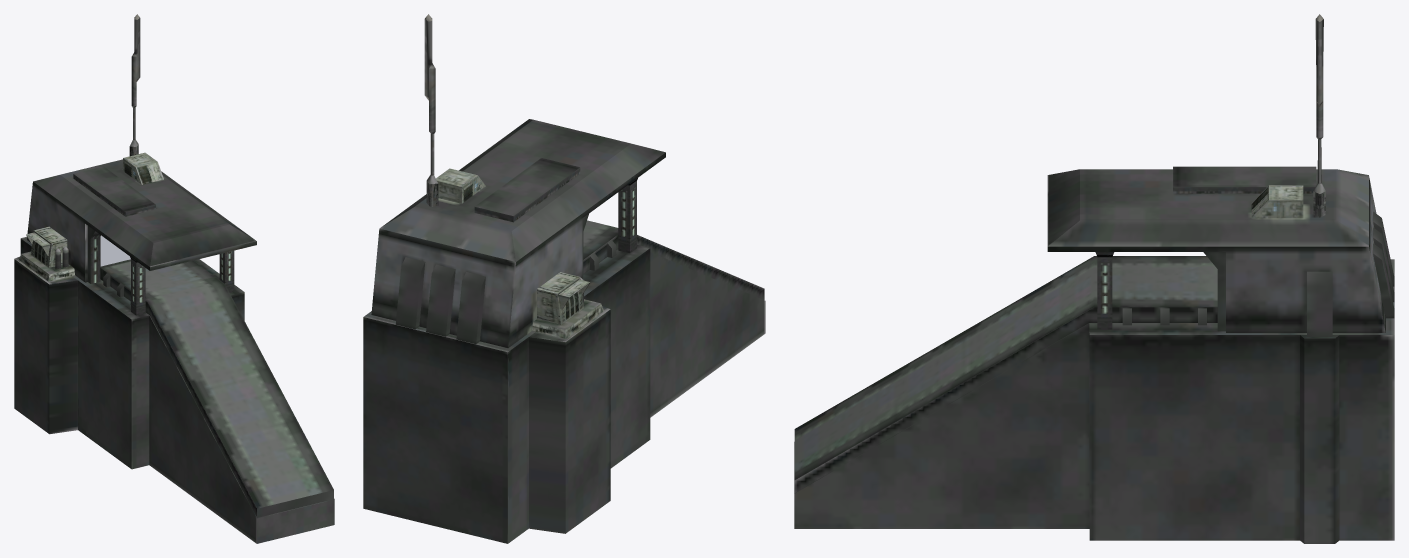
The model's file is ply_corl_garage_s01_l2.fbx.
3 renders of one model, left to right at view 1: azimuth 30°, elevation 25°; view 2: azimuth 150°, elevation 25°; view 3: azimuth 270°, elevation 25°, orthographic. The views are drawn at different scales.
Parts seen in each view (by area): view 1: mesh_node; view 2: mesh_node; view 3: mesh_node.
Boxes of the visible parts, x1,y1,x2,y2 form: mesh_node: [14, 14, 334, 543]; mesh_node: [363, 14, 765, 543]; mesh_node: [794, 14, 1394, 543].
Bounding box in the file's own units: 12.13 × 30.03 × 32.
